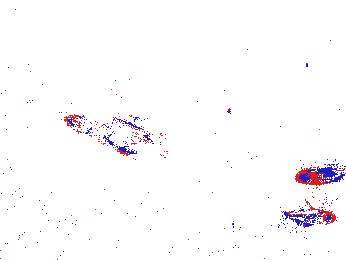red belly glassfish: (294, 162, 346, 186), (278, 207, 336, 227)
redtail glassfish: (61, 112, 166, 155)
